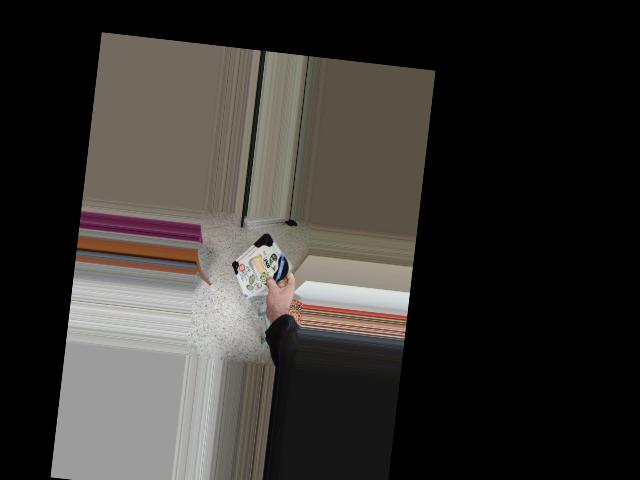cheese: (225, 238, 307, 295)
